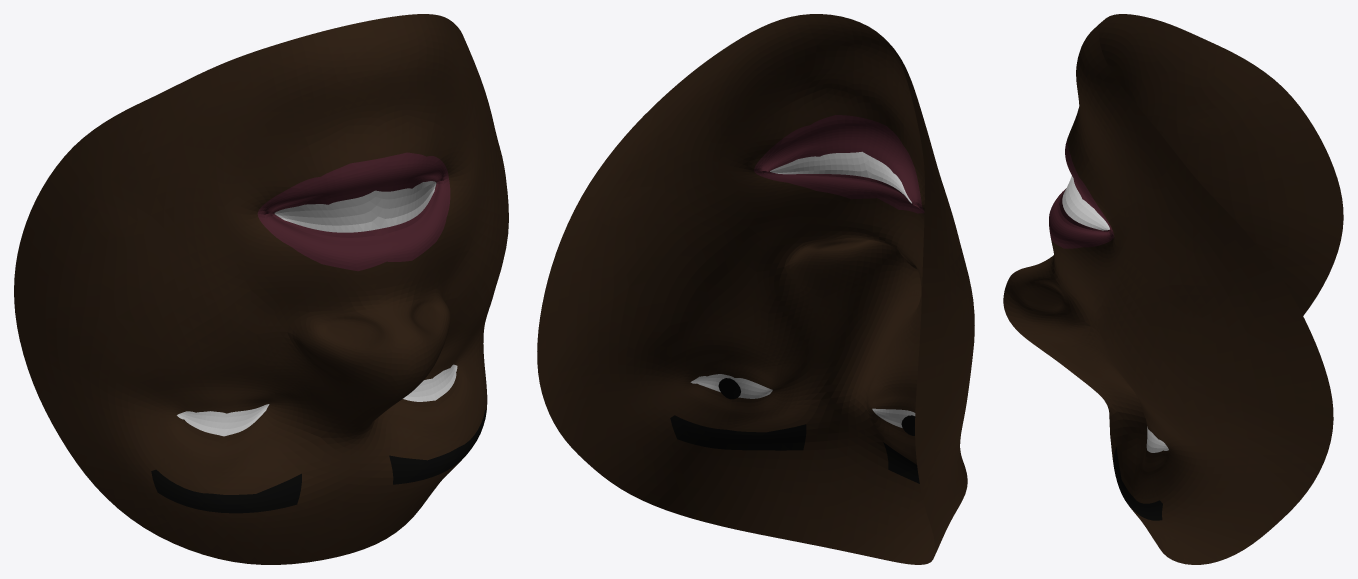
File: VID-20250515-WA0005_f_00861.obj
3 renders of one model, left to right at view 1: azimuth 30°, elevation 25°; view 2: azimuth 150°, elevation 25°; view 3: azimuth 270°, elevation 25°, orthographic. The views are drawn at different scales.
Parts seen in each view (by area): view 1: face_mesh_subdivided; view 2: face_mesh_subdivided; view 3: face_mesh_subdivided.
Boxes of the visible parts, left/top/right/bottom form: face_mesh_subdivided: left=14, top=14, right=508, bottom=564; face_mesh_subdivided: left=537, top=14, right=974, bottom=564; face_mesh_subdivided: left=1003, top=14, right=1343, bottom=564.
Bounding box in the file's own units: 0.4521 × 0.5717 × 0.3536.
